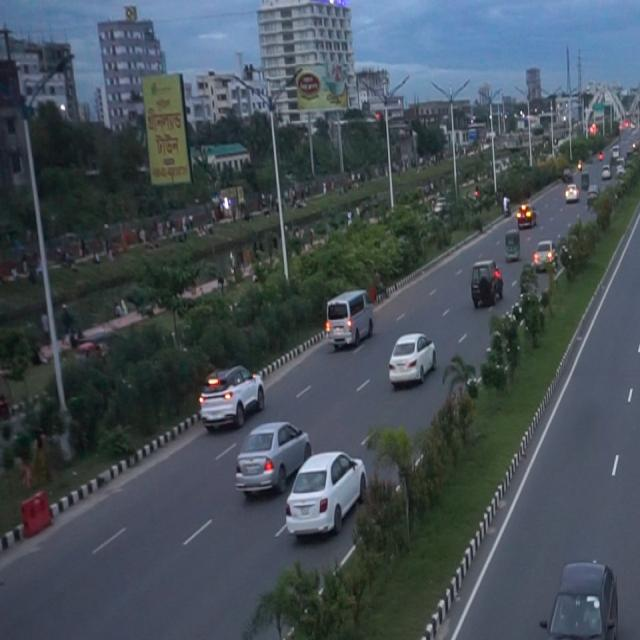car: (273, 434, 375, 552), (528, 540, 627, 640), (230, 405, 316, 506), (192, 352, 273, 437), (314, 274, 379, 356), (382, 315, 442, 396)
